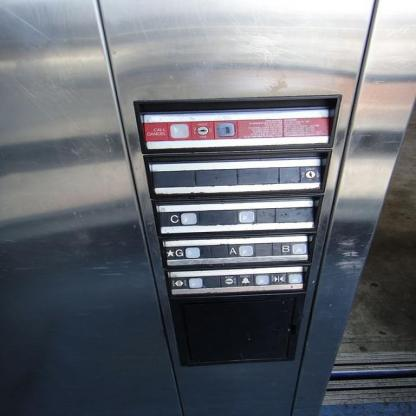A: (220, 241, 256, 258)
B: (271, 239, 308, 256)
C: (158, 209, 198, 227)
alarm: (236, 270, 270, 286)
bt_keyhole: (190, 118, 238, 140), (276, 165, 320, 184), (204, 273, 236, 288)
close: (270, 269, 304, 285)
empty: (220, 207, 258, 225)
open: (169, 274, 204, 290)
sG: (164, 243, 202, 260)
text_call cancel: (142, 120, 190, 141)
